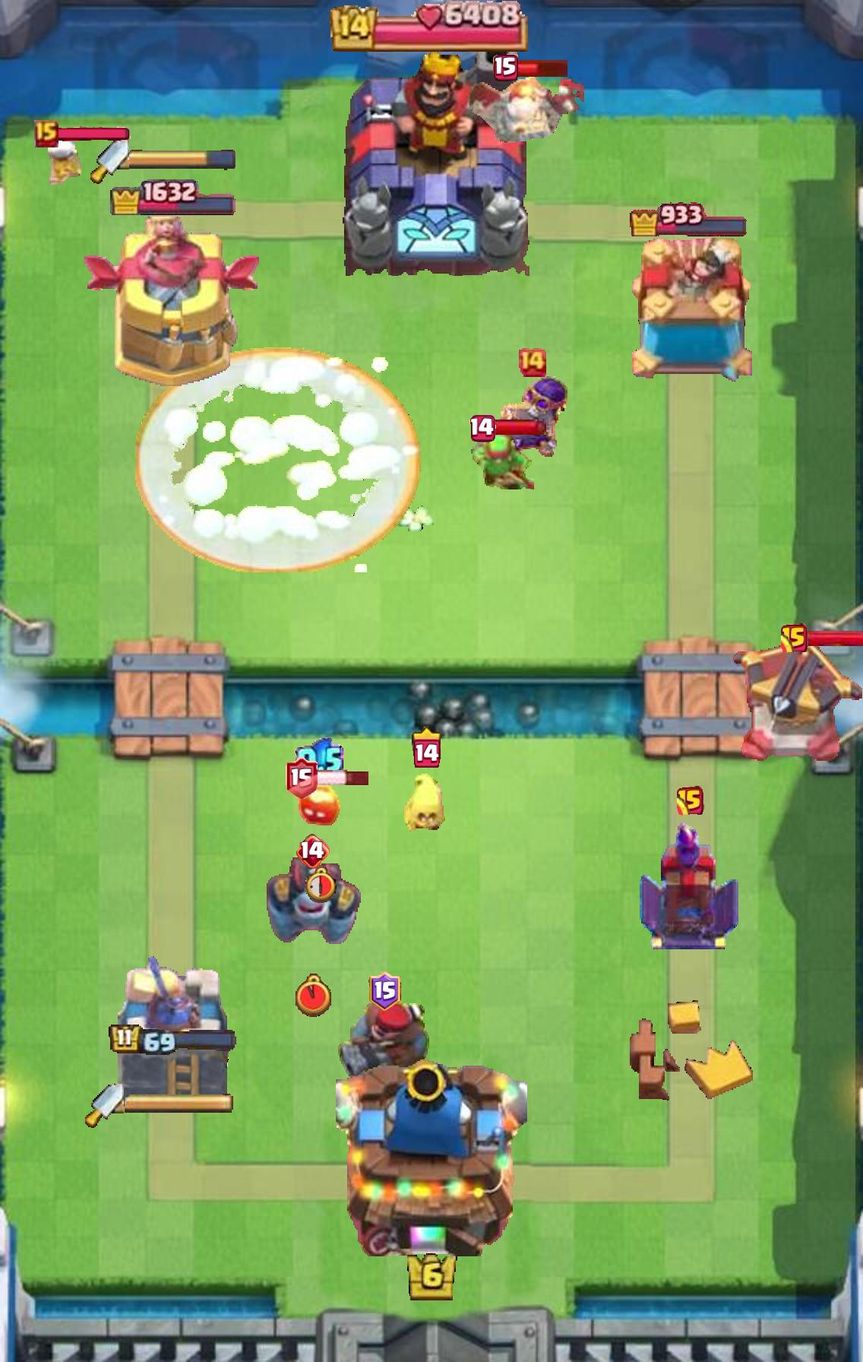elixir: (295, 736, 343, 784)
